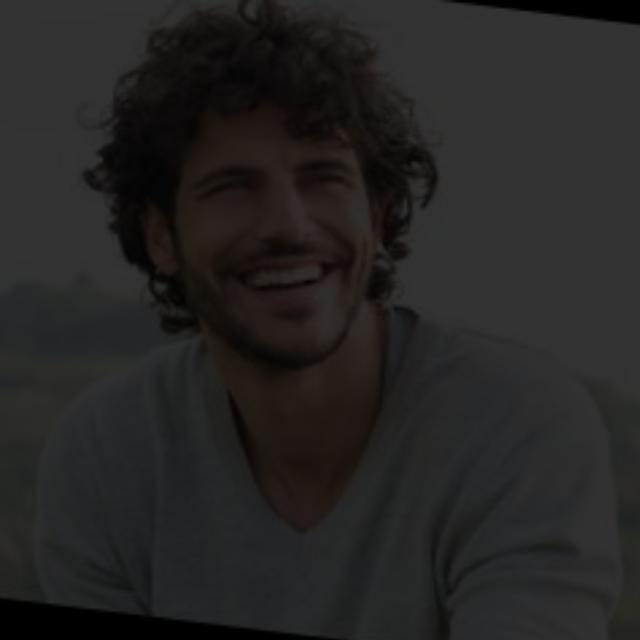happy: (93, 83, 455, 404)
